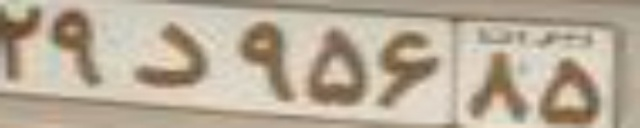2: (1, 3, 40, 81)
5: (304, 26, 366, 107), (536, 56, 604, 125)
6: (374, 28, 440, 110)
8: (466, 50, 530, 121)
9: (235, 19, 293, 102), (48, 6, 101, 86)
dal: (129, 19, 207, 87)
